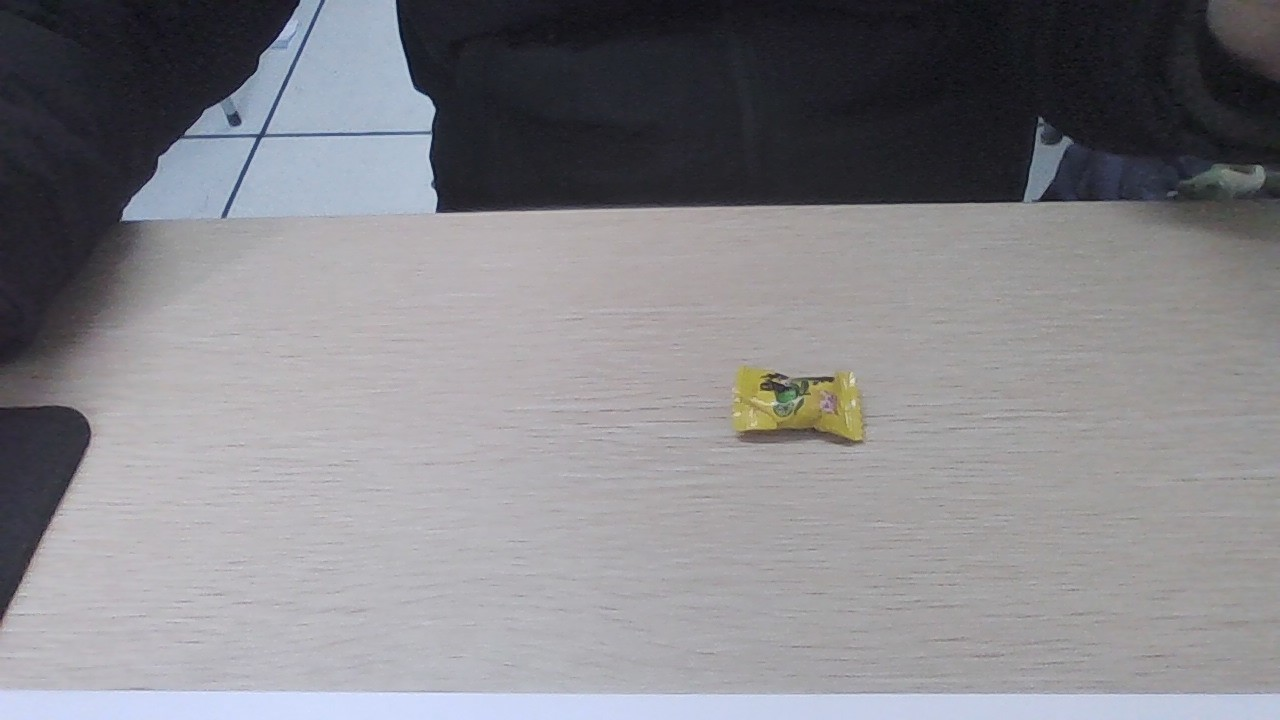CY-sugar: (733, 368, 857, 446)
